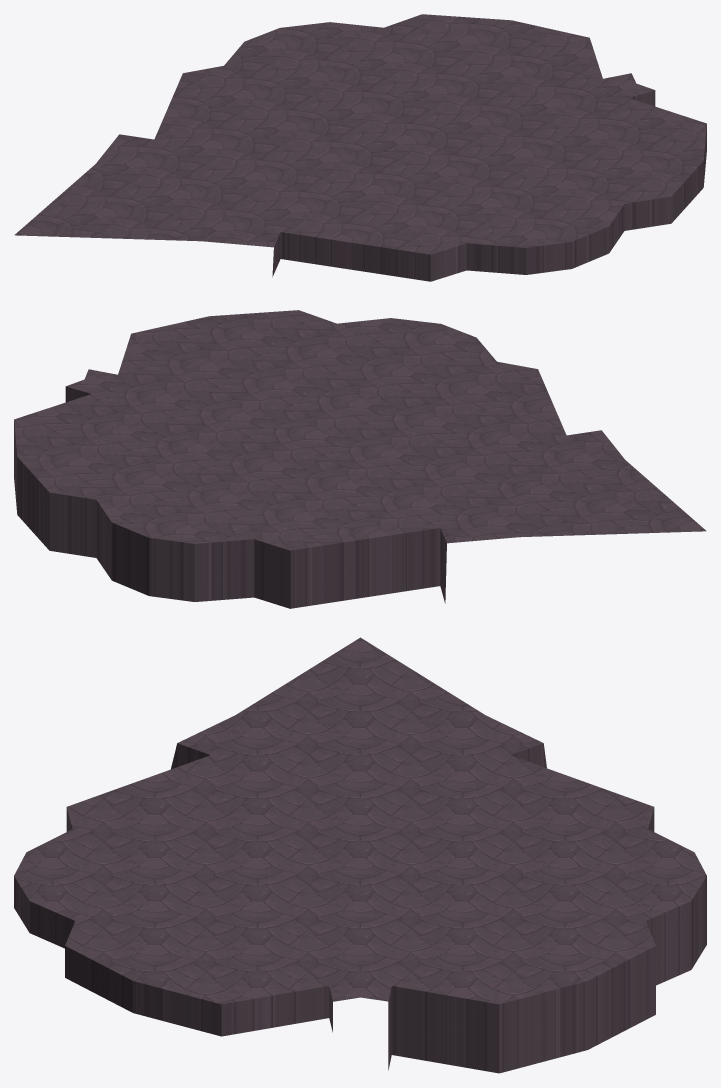
The model's file is SD_xs_dimian07.FBX.
The picture shows the model from 3 angles, top to bottom: view 1: azimuth 30°, elevation 25°; view 2: azimuth 150°, elevation 25°; view 3: azimuth 270°, elevation 25°; orthographic projection. The views are drawn at different scales.
Parts seen in each view (by area): view 1: SD_xs_dimian07; view 2: SD_xs_dimian07; view 3: SD_xs_dimian07.
Boxes of the visible parts, bbox=[...] form: SD_xs_dimian07: bbox=[14, 14, 706, 281]; SD_xs_dimian07: bbox=[14, 310, 706, 608]; SD_xs_dimian07: bbox=[14, 637, 706, 1073].
Bounding box in the file's own units: 1013 × 89.2 × 809.
1 material, 1 textured.
